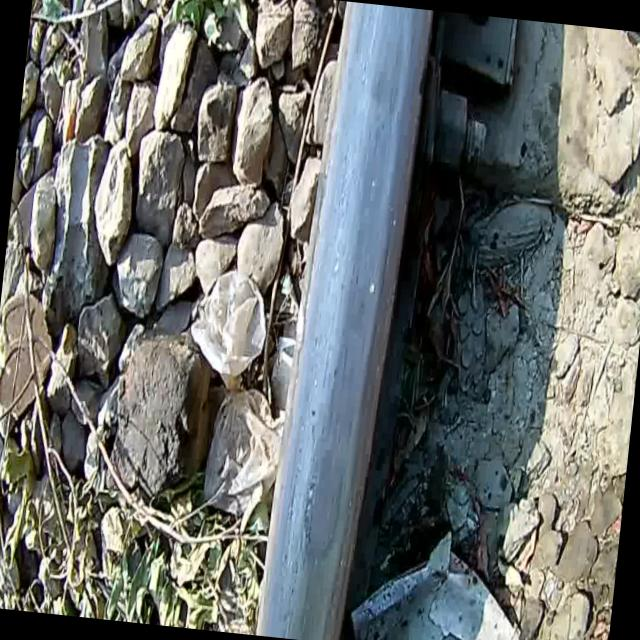Squats: (232, 0, 459, 640)
